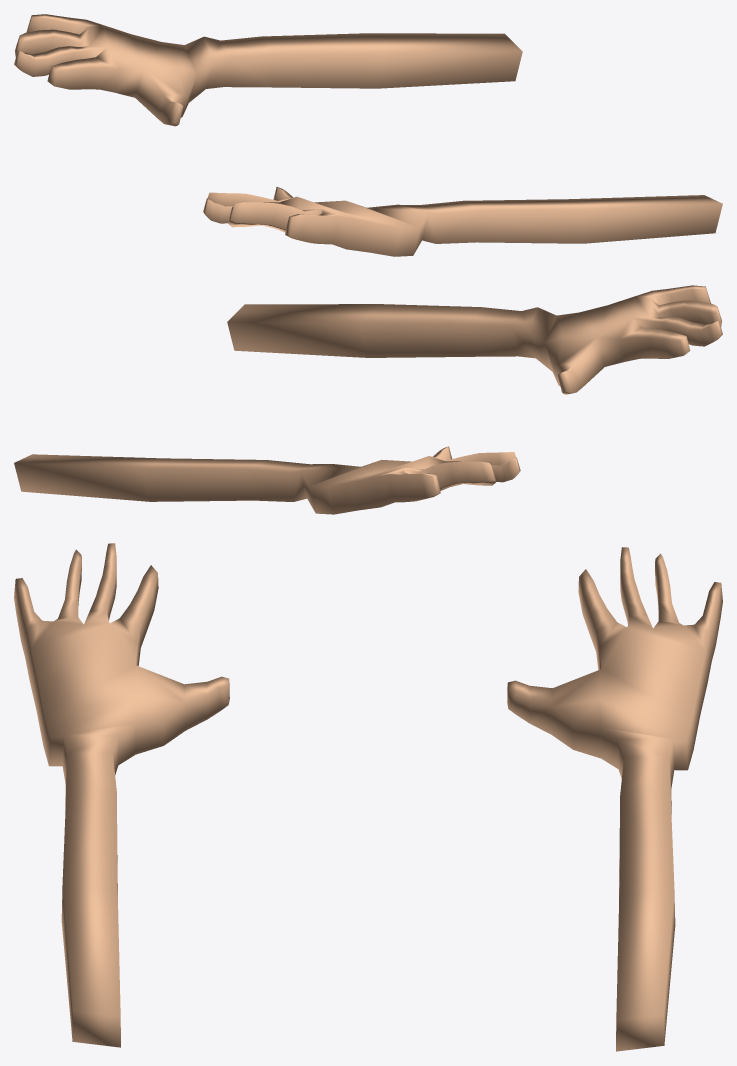
The model's file is PlayerArms.fbx.
The picture shows the model from 3 angles, top to bottom: view 1: azimuth 30°, elevation 25°; view 2: azimuth 150°, elevation 25°; view 3: azimuth 270°, elevation 25°; orthographic projection. The views are drawn at different scales.
Visible parts, largest first — view 1: RightArm, LeftArm; view 2: LeftArm, RightArm; view 3: LeftArm, RightArm.
Boxes of the visible parts, bbox=[...] form: RightArm: bbox=[14, 14, 522, 126]; LeftArm: bbox=[203, 187, 722, 256]; LeftArm: bbox=[227, 285, 722, 394]; RightArm: bbox=[14, 446, 520, 514]; LeftArm: bbox=[14, 543, 229, 1047]; RightArm: bbox=[507, 547, 722, 1051].
Size of the model in its own units: 1213 by 342 by 1116.
